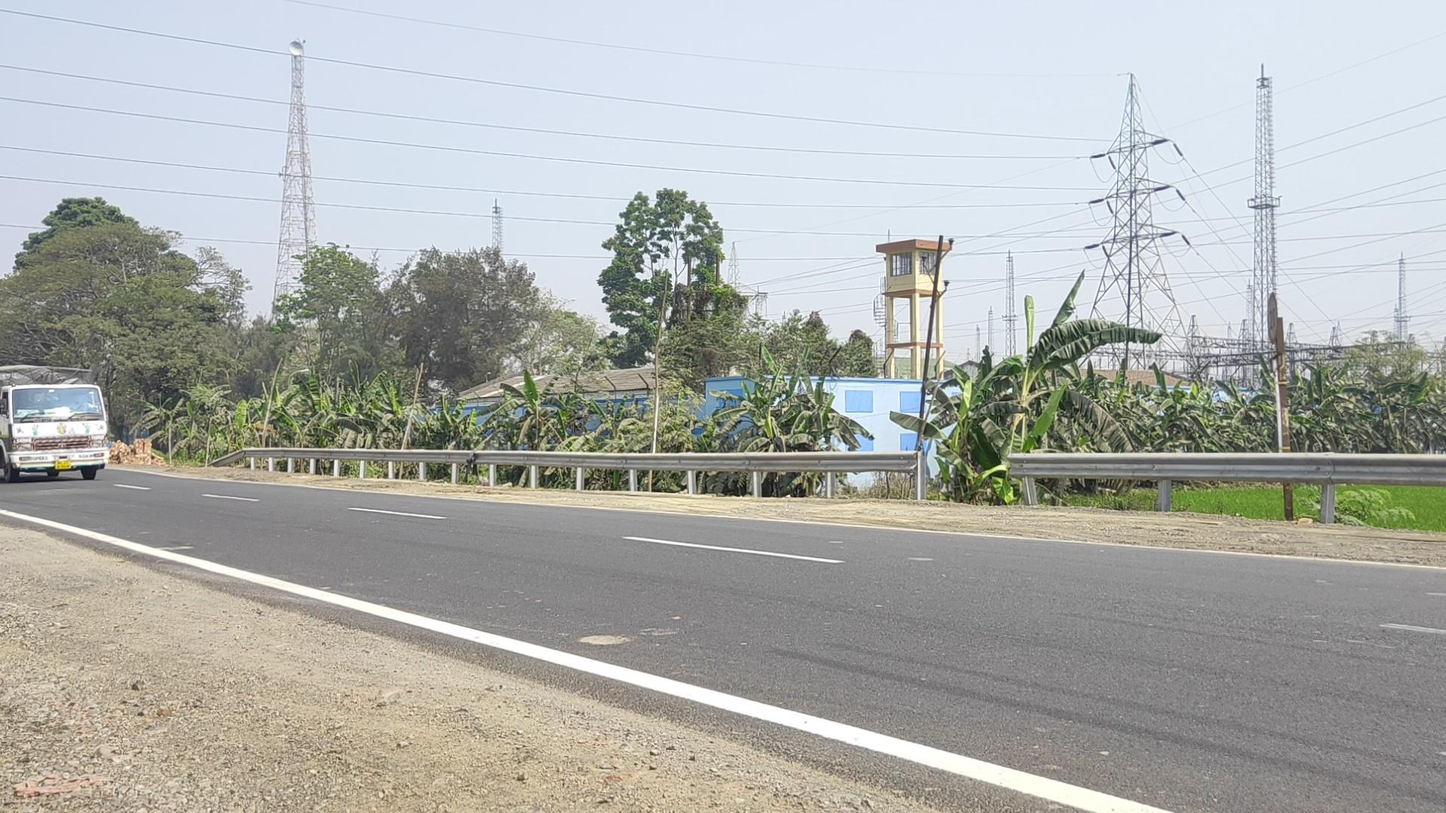truck: (1, 364, 112, 484)
